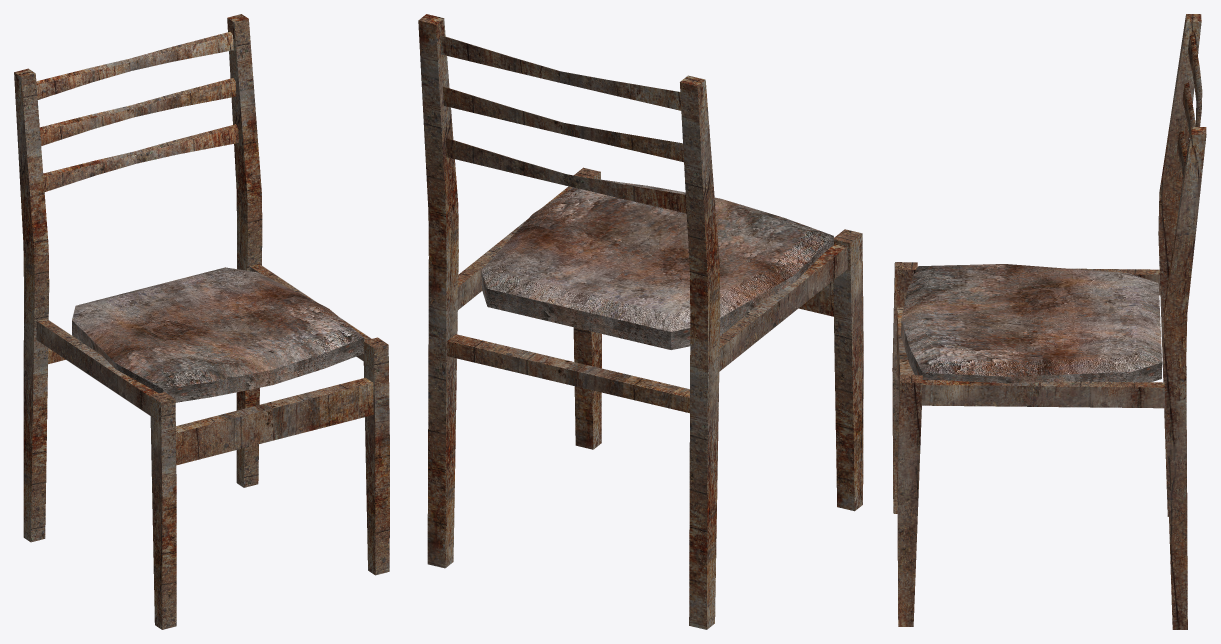
The model's file is Chair.fbx.
3 renders of one model, left to right at view 1: azimuth 30°, elevation 25°; view 2: azimuth 150°, elevation 25°; view 3: azimuth 270°, elevation 25°, orthographic. The views are drawn at different scales.
Parts seen in each view (by area): view 1: Chair; view 2: Chair; view 3: Chair.
Part boxes in pixels (box(x1,y1,x2,y2)): Chair: box(14, 14, 389, 629); Chair: box(418, 14, 863, 629); Chair: box(892, 14, 1206, 629).
Size of the model in its own units: 48.47 by 90.56 by 52.03.
